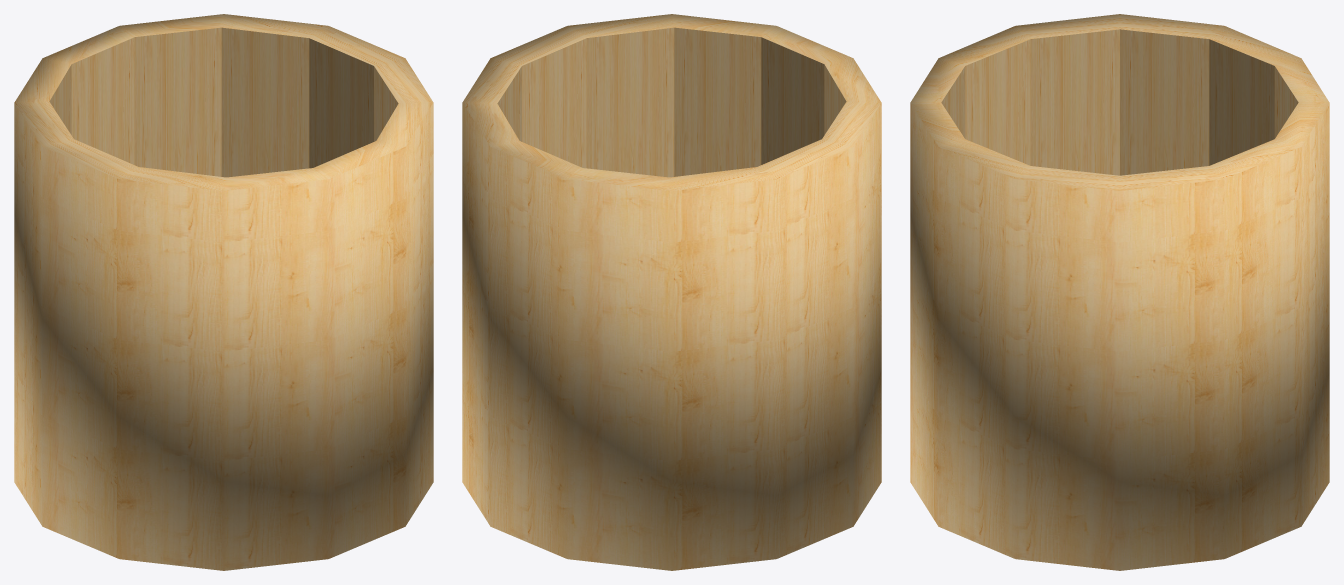
Rendered from Cup.fbx.
The picture shows the model from 3 angles, left to right: view 1: azimuth 30°, elevation 25°; view 2: azimuth 150°, elevation 25°; view 3: azimuth 270°, elevation 25°; orthographic projection.
Visible parts, largest first — view 1: pCylinder1; view 2: pCylinder1; view 3: pCylinder1.
Boxes of the visible parts, <box> form: pCylinder1: <box>14,14,433,570</box>; pCylinder1: <box>462,14,881,570</box>; pCylinder1: <box>910,14,1329,570</box>.
Size of the model in its own units: 4.99 by 4.99 by 4.99.
